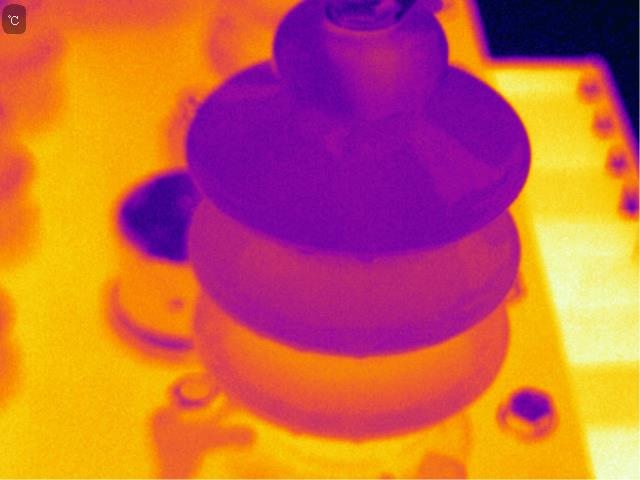Oil: (409, 110, 508, 217), (355, 248, 381, 264), (350, 348, 370, 363), (286, 427, 307, 440), (347, 436, 370, 447), (251, 327, 269, 341)
